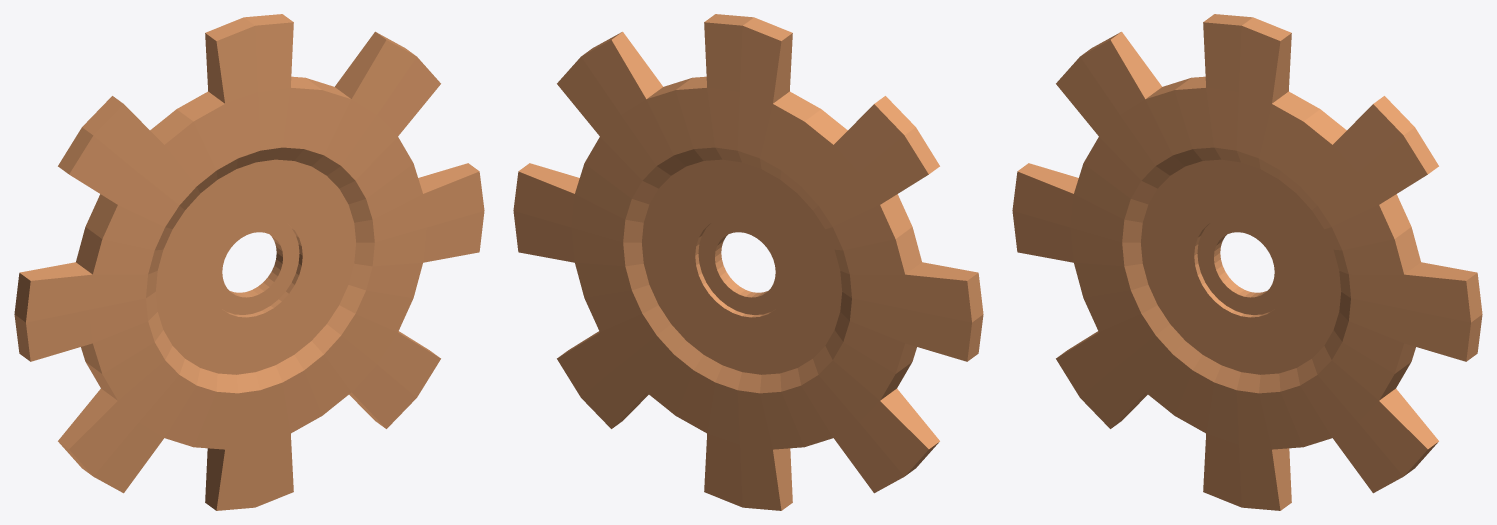
The model's file is cog.fbx.
3 renders of one model, left to right at view 1: azimuth 30°, elevation 25°; view 2: azimuth 150°, elevation 25°; view 3: azimuth 330°, elevation 25°, orthographic.
Visible parts, largest first — view 1: Cog; view 2: Cog; view 3: Cog.
Part boxes in pixels (<box>): Cog: <box>14,14,484,510</box>; Cog: <box>513,14,983,510</box>; Cog: <box>1012,14,1482,510</box>.
Bounding box in the file's own units: 0.8168 × 0.8202 × 0.0672.
